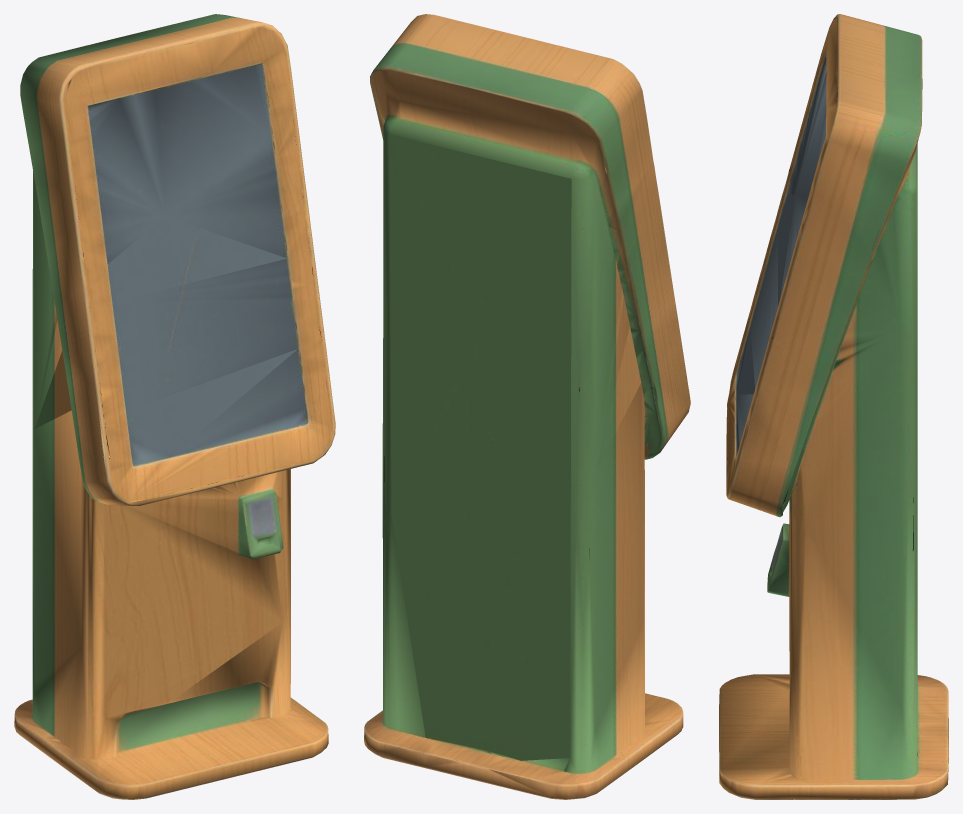
File: kiosk.glb
The picture shows the model from 3 angles, left to right: view 1: azimuth 30°, elevation 25°; view 2: azimuth 150°, elevation 25°; view 3: azimuth 270°, elevation 25°; orthographic projection. The views are drawn at different scales.
Visible parts, largest first — view 1: kiosk_unit; view 2: kiosk_unit; view 3: kiosk_unit.
Part boxes in pixels (x1,y1,x2,y2): kiosk_unit: (14, 14, 335, 799); kiosk_unit: (364, 14, 690, 799); kiosk_unit: (719, 14, 948, 799).
Bounding box in the file's own units: 0.5546 × 1.6 × 0.4845.
1 material, 1 textured.
